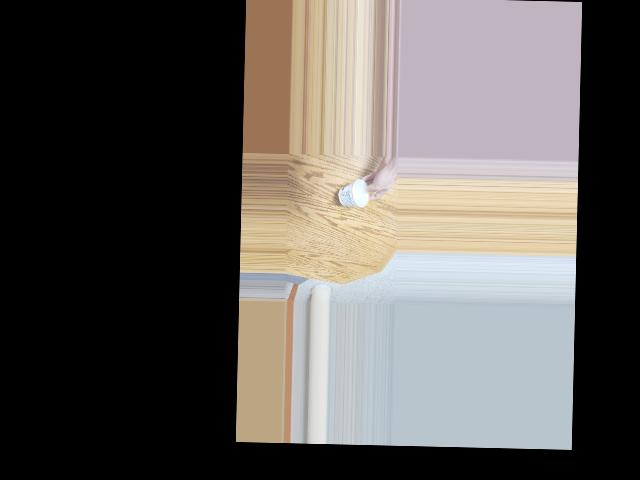cotage: (337, 179, 367, 210)
